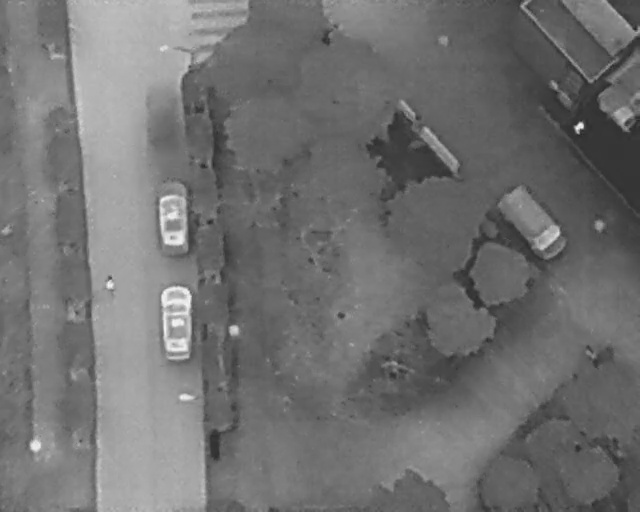Car: (492, 179, 572, 267), (153, 178, 193, 258), (160, 285, 193, 362)
